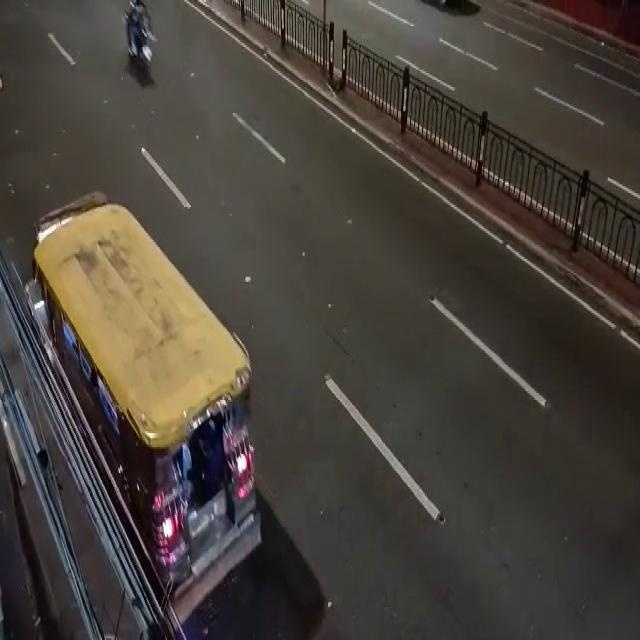jeepney: (36, 194, 243, 611)
